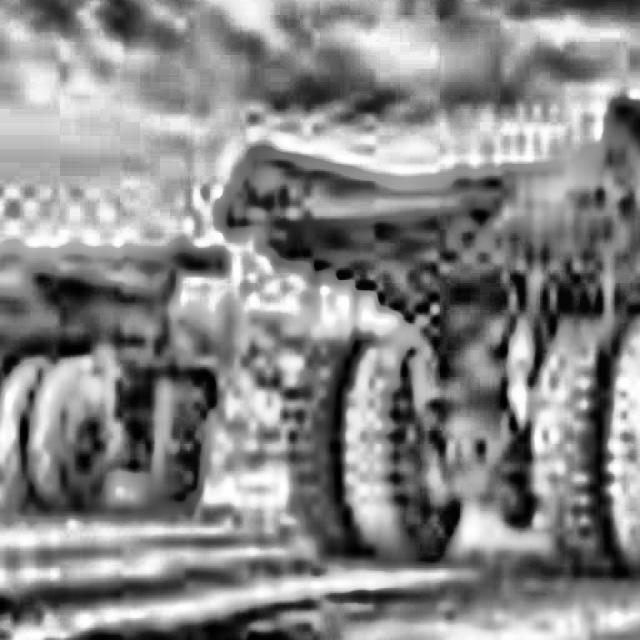dump_truck: (221, 50, 640, 640), (0, 142, 219, 575)
